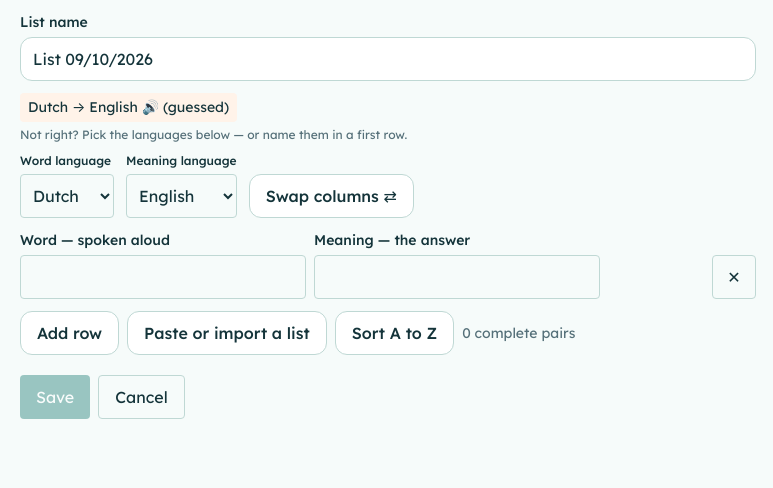
Test: language selectors › follows detection while the user has not chosen
In the field named "Row 1 meaning": [457, 277] box x1=314 y1=255 x2=600 y2=299, type "de deur"
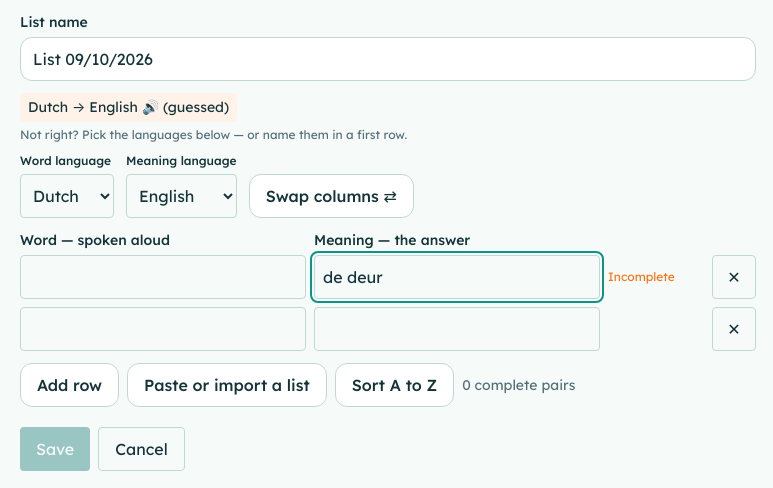
In the field named "Row 1 word": [163, 277] box x1=20 y1=255 x2=306 y2=299, type "la fenêtre"
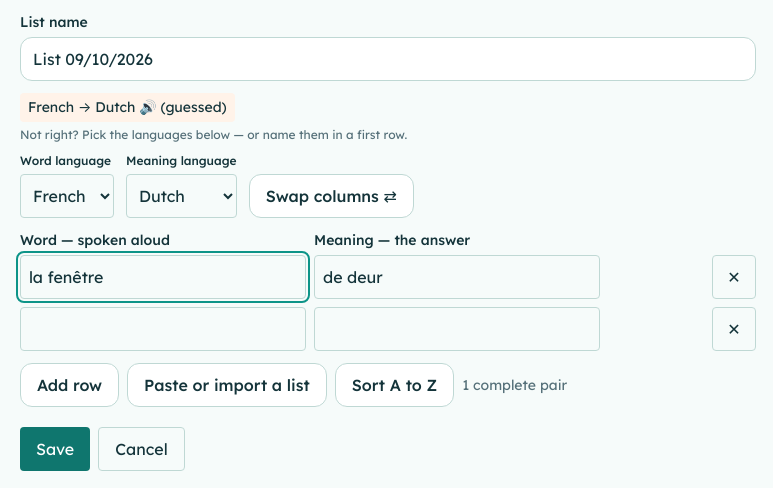
Expected: the dropdown labelled "Meaning language" shows "Dutch", x1=126 y1=174 x2=237 y2=218
